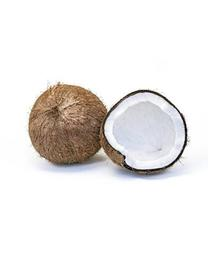coconut: (98, 89, 188, 174), (29, 84, 108, 166)
